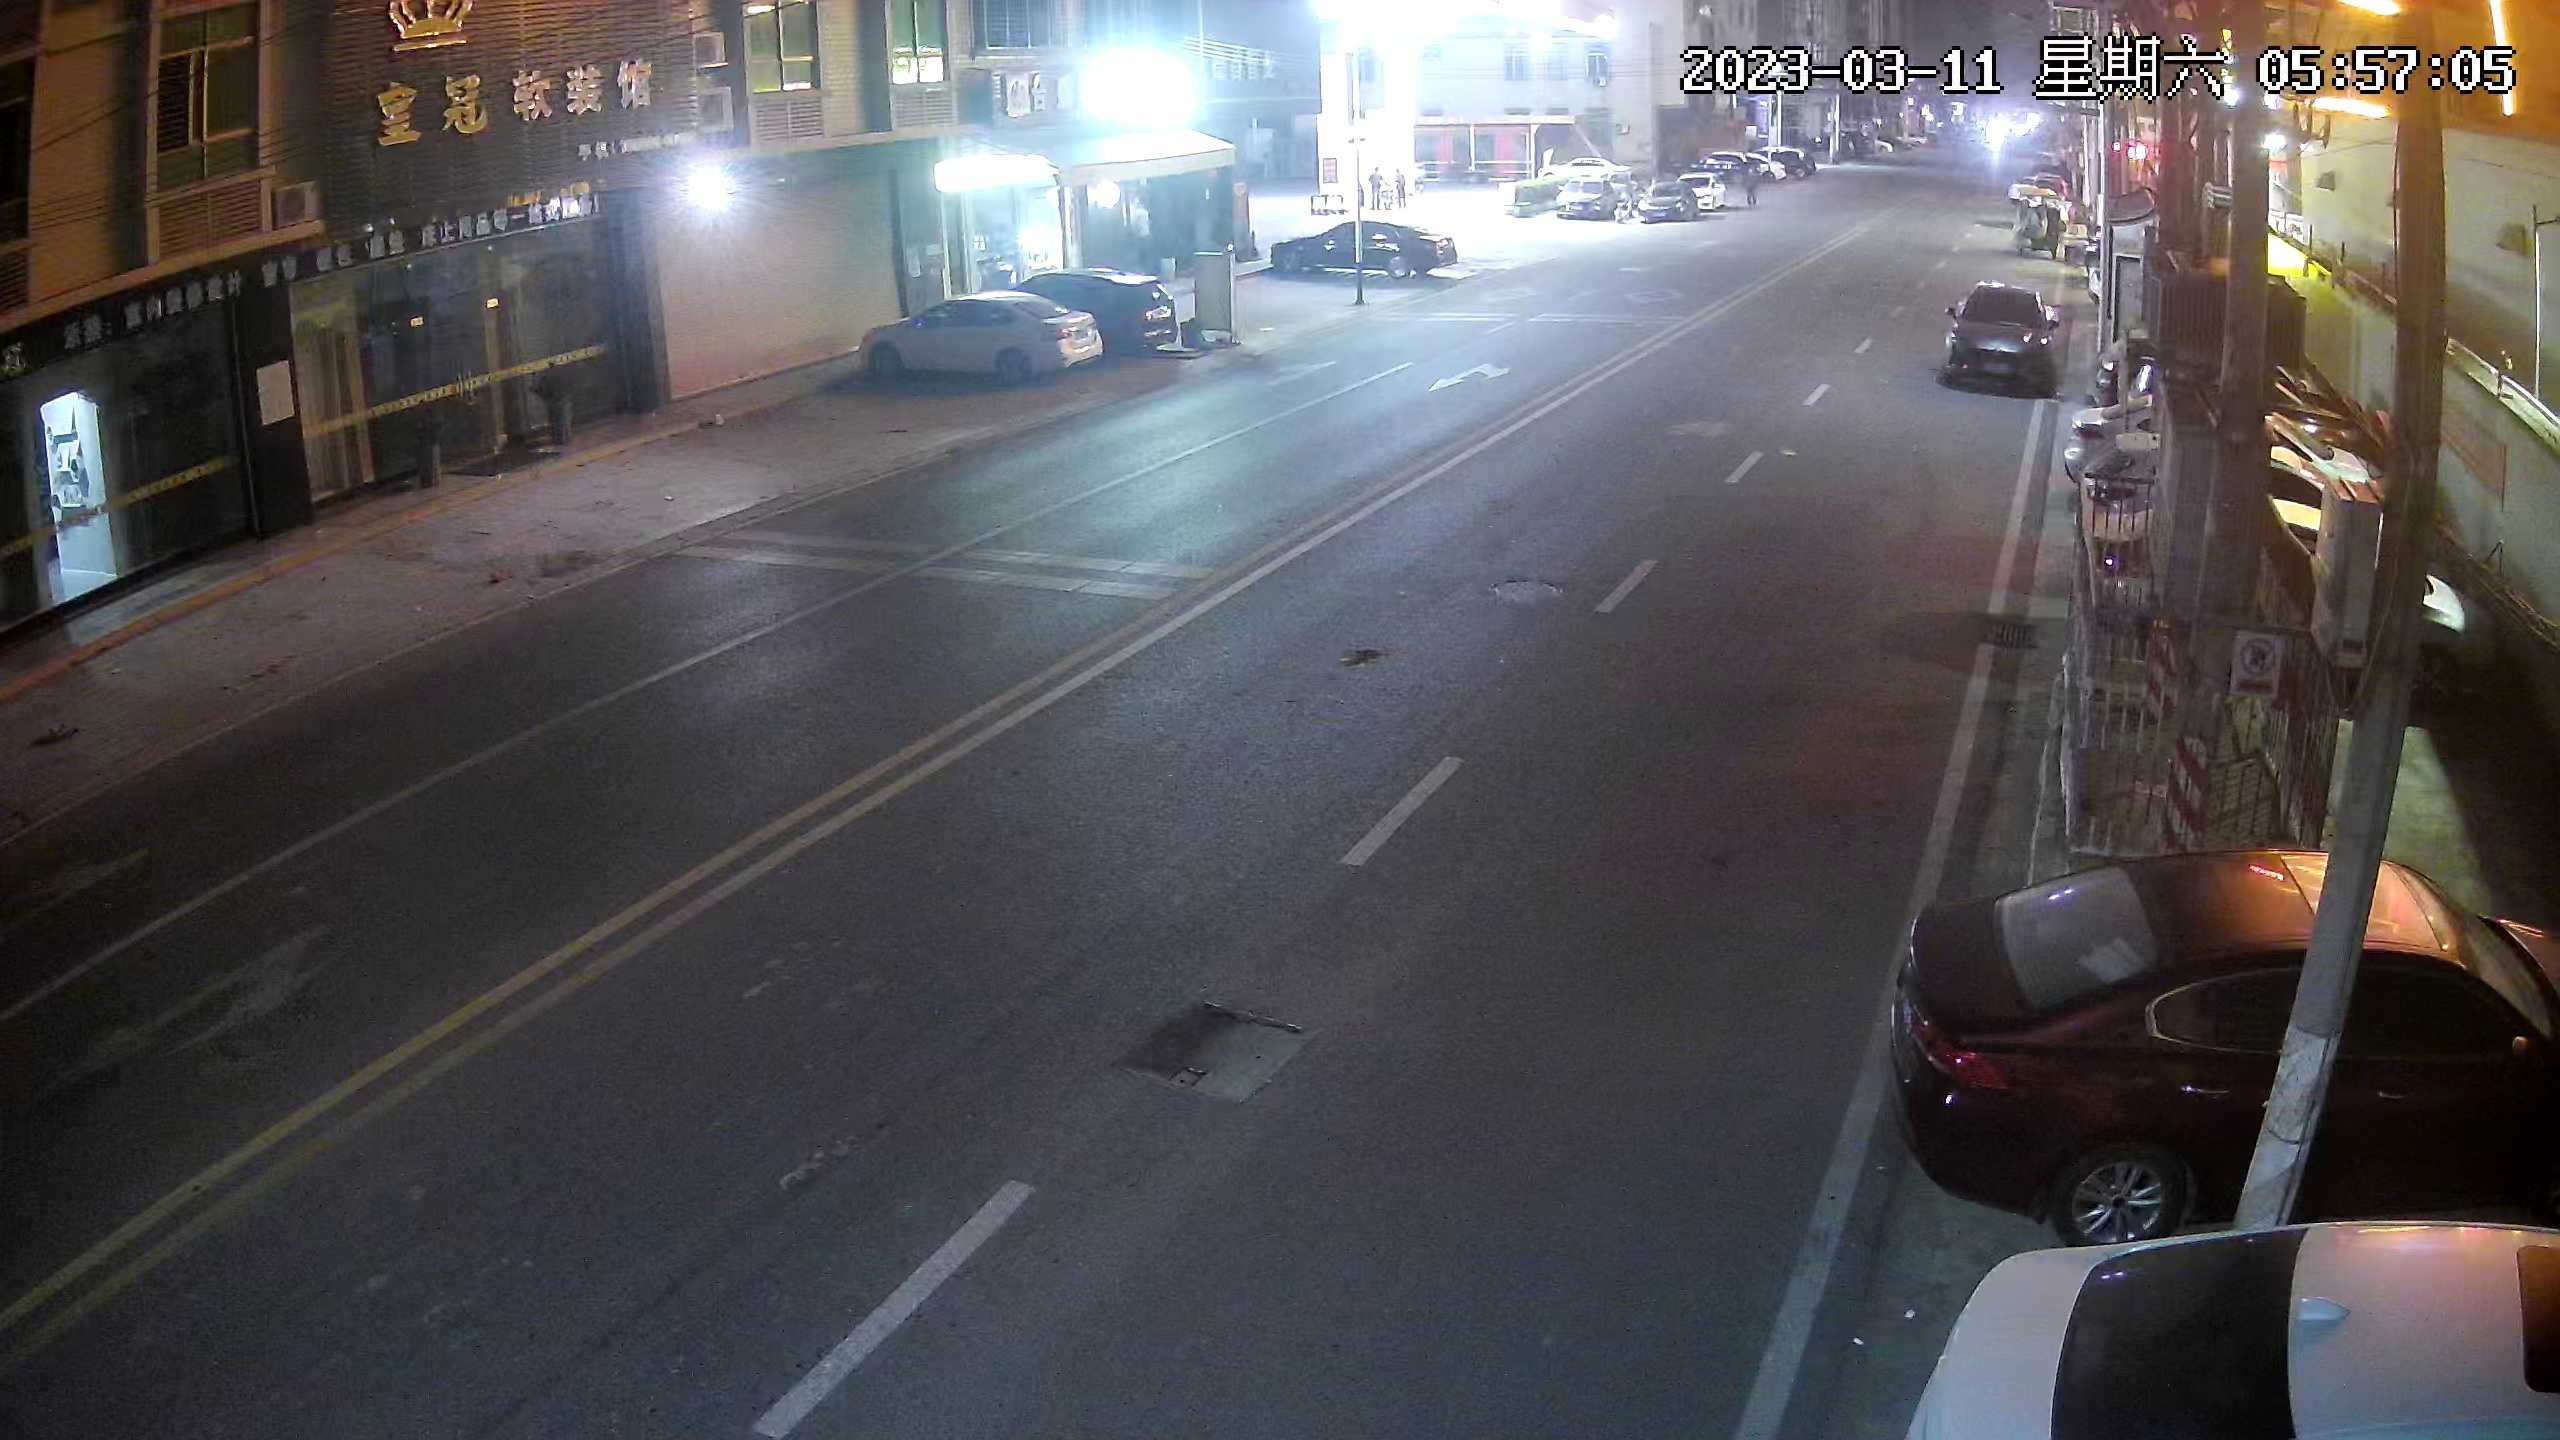person: (1368, 162, 1403, 214)
sedan: (1922, 854, 2560, 1209), (1924, 1225, 2560, 1440), (2079, 500, 2450, 667), (2085, 418, 2378, 509), (867, 293, 1092, 369), (1273, 217, 1459, 290), (1953, 284, 2062, 384), (1559, 174, 1614, 218), (1647, 184, 1693, 222), (1688, 173, 1728, 208), (2018, 177, 2057, 203)
suv: (1059, 268, 1180, 344)
